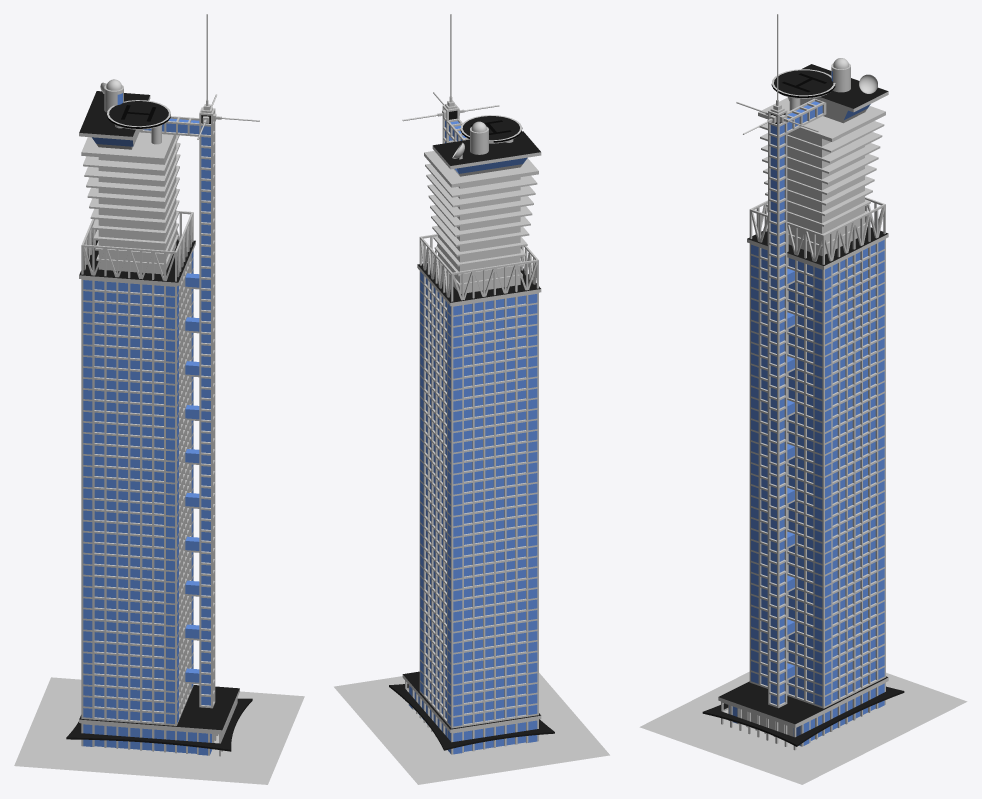
The model's file is build1.obj.
The picture shows the model from 3 angles, left to right: view 1: azimuth 30°, elevation 25°; view 2: azimuth 150°, elevation 25°; view 3: azimuth 270°, elevation 25°; orthographic projection. The views are drawn at different scales.
Visible parts, largest first — view 1: Mesh2058_Model; view 2: Mesh2058_Model; view 3: Mesh2058_Model.
Part boxes in pixels (bbox=[...]): Mesh2058_Model: bbox=[14, 14, 304, 784]; Mesh2058_Model: bbox=[334, 14, 609, 784]; Mesh2058_Model: bbox=[639, 14, 967, 784].
Size of the model in its own units: 380 by 899 by 374.
